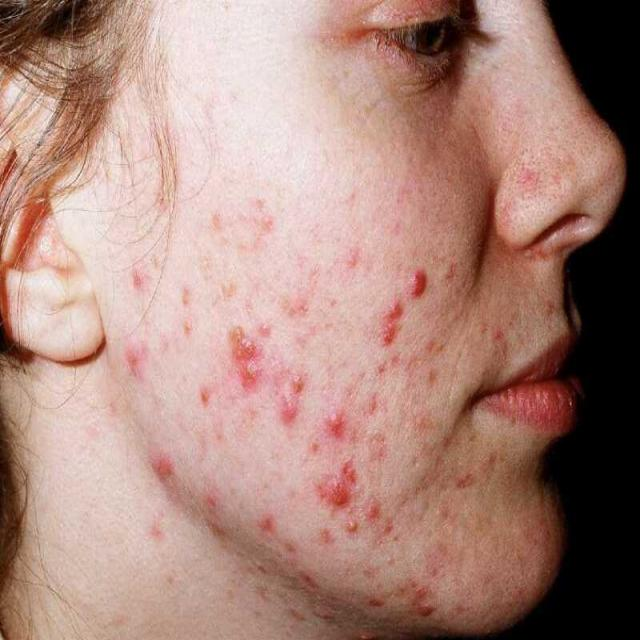acne: (102, 180, 543, 634), (513, 153, 552, 194)
